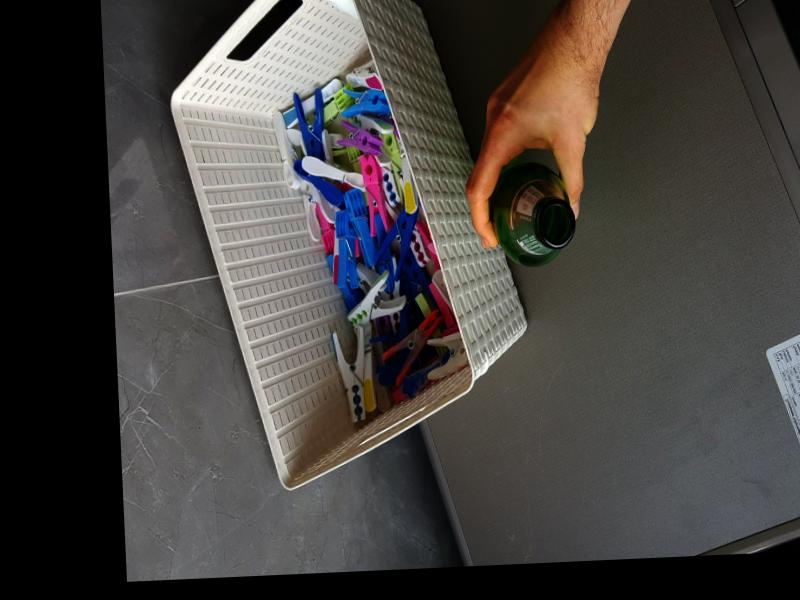Beer: (487, 158, 578, 269)
